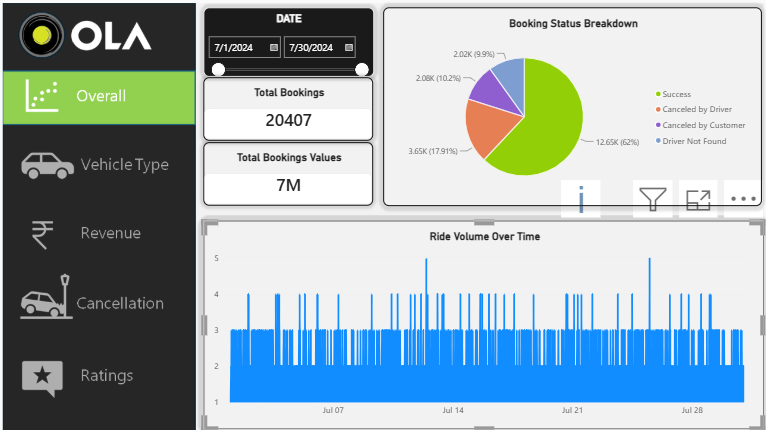

This screenshot's page, from the dashboard's own definition file:
{"tool":"powerbi","page":{"name":"Overall","canvas":[1920,1080],"ordinal":0},"visuals":[{"type":"actionButton","box":[323.3,383.7,318.6,90.7],"z":0},{"type":"actionButton","box":[323.3,514,318.6,90.7],"z":1000},{"type":"actionButton","box":[325.6,623.3,318.6,90.7],"z":2000},{"type":"actionButton","box":[320.9,762.8,318.6,90.7],"z":3000},{"type":"lineChart","title":"Ride Volume Over Time","fields":{"Category":["July.Date"],"Y":["CountNonNull(July.Booking_ID)"]},"box":[657.4,540.4,942.6,351.1],"z":4000},{"type":"pieChart","title":"Booking Status Breakdown","fields":{"Category":["July.Booking_Status"],"Y":["CountNonNull(July.Booking_Status)"]},"box":[959.6,180.9,636.2,334],"z":5000},{"type":"slicer","title":"DATE","fields":{"Values":["July.Date"]},"box":[657.1,181.4,287.2,117],"z":6000},{"type":"cardVisual","title":"Total Bookings","fields":{"Data":["CountNonNull(July.Booking_ID)"]},"box":[657.4,297.9,285.1,107],"z":7000},{"type":"cardVisual","title":"Total Bookings Values","fields":{"Data":["Sum(July.Booking_Value)"]},"box":[657.4,408.5,285.1,107],"z":8000}]}

Visuals, with their boxes in screenshot pixels (x1, y1, x2, y2), scaled from the page's 1920x1080 canvas onto the 766x430 screenshot:
actionButton: {"left": 129, "top": 153, "right": 256, "bottom": 189}
actionButton: {"left": 129, "top": 205, "right": 256, "bottom": 241}
actionButton: {"left": 130, "top": 248, "right": 257, "bottom": 284}
actionButton: {"left": 128, "top": 304, "right": 255, "bottom": 340}
"Ride Volume Over Time" lineChart: {"left": 262, "top": 215, "right": 638, "bottom": 355}
"Booking Status Breakdown" pieChart: {"left": 383, "top": 72, "right": 637, "bottom": 205}
"DATE" slicer: {"left": 262, "top": 72, "right": 377, "bottom": 119}
"Total Bookings" cardVisual: {"left": 262, "top": 119, "right": 376, "bottom": 161}
"Total Bookings Values" cardVisual: {"left": 262, "top": 163, "right": 376, "bottom": 205}
